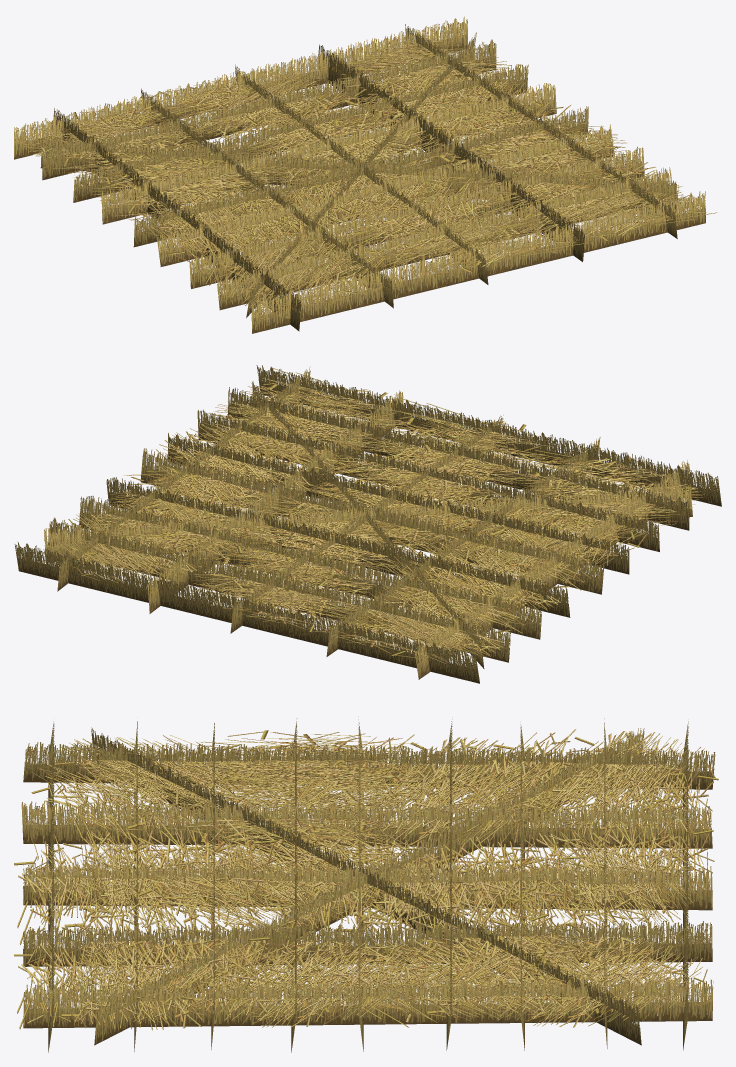
The model's file is crop_stubble_patch.glb.
The picture shows the model from 3 angles, top to bottom: view 1: azimuth 30°, elevation 25°; view 2: azimuth 150°, elevation 25°; view 3: azimuth 270°, elevation 25°; orthographic projection. The views are drawn at different scales.
Parts seen in each view (by area): view 1: Crop_Stubble_Patch; view 2: Crop_Stubble_Patch; view 3: Crop_Stubble_Patch.
Boxes of the visible parts, x1,y1,x2,y2 form: Crop_Stubble_Patch: (14,16,716,333); Crop_Stubble_Patch: (14,365,721,683); Crop_Stubble_Patch: (14,718,718,1052).
Bounding box in the file's own units: 6.08 × 0.4297 × 6.08.
Materials: 1 (1 with a texture image).
